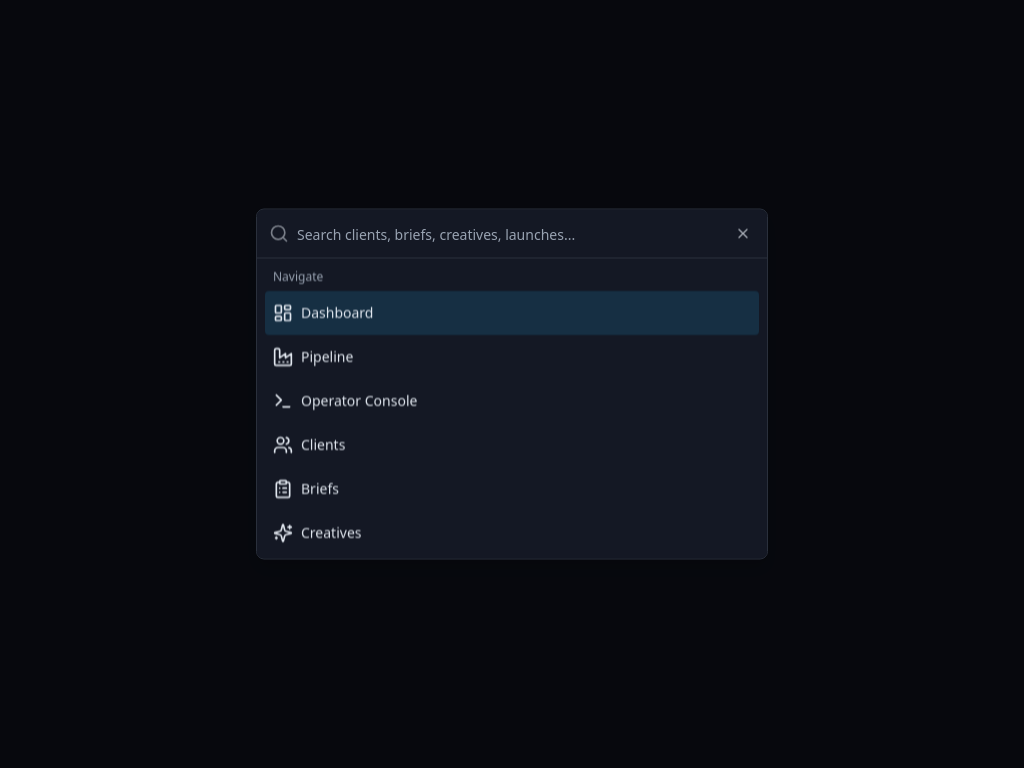
it: CommandPalette live search › shows the empty state when search returns nothing
Type "zzz" into the dropdown with placeholder "Search clients, briefs, creatives, launches..." at (526, 234), box [297, 210, 755, 258]
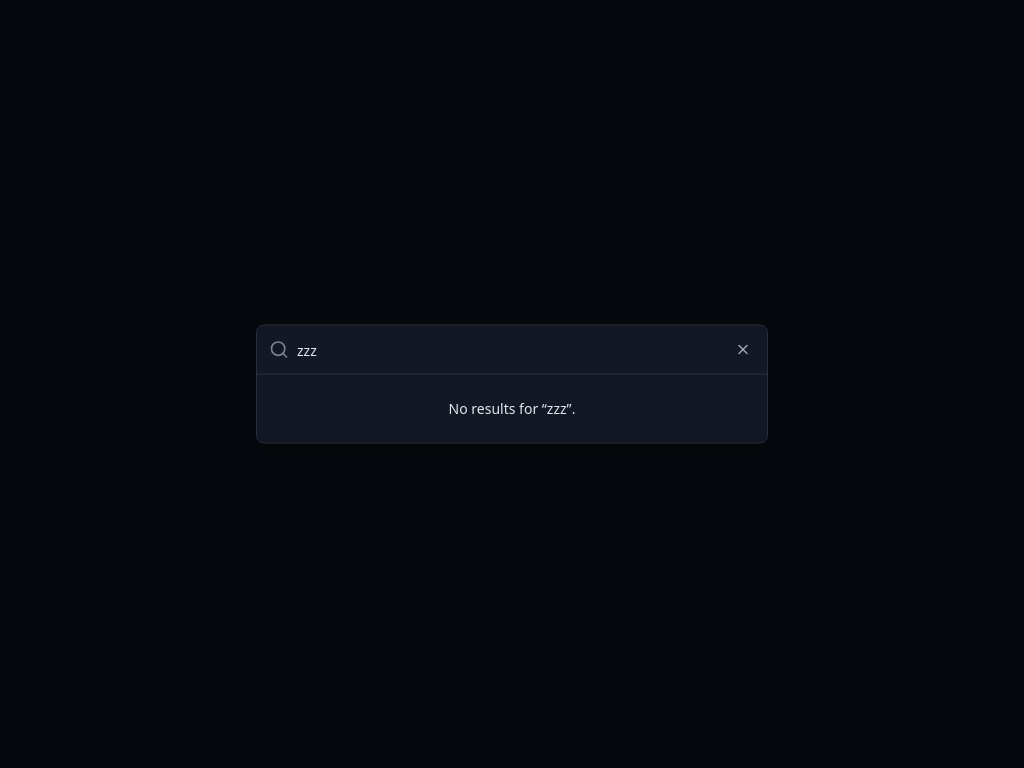
Result: the text "No results for “zzz”." is shown at [449, 398, 575, 418]
